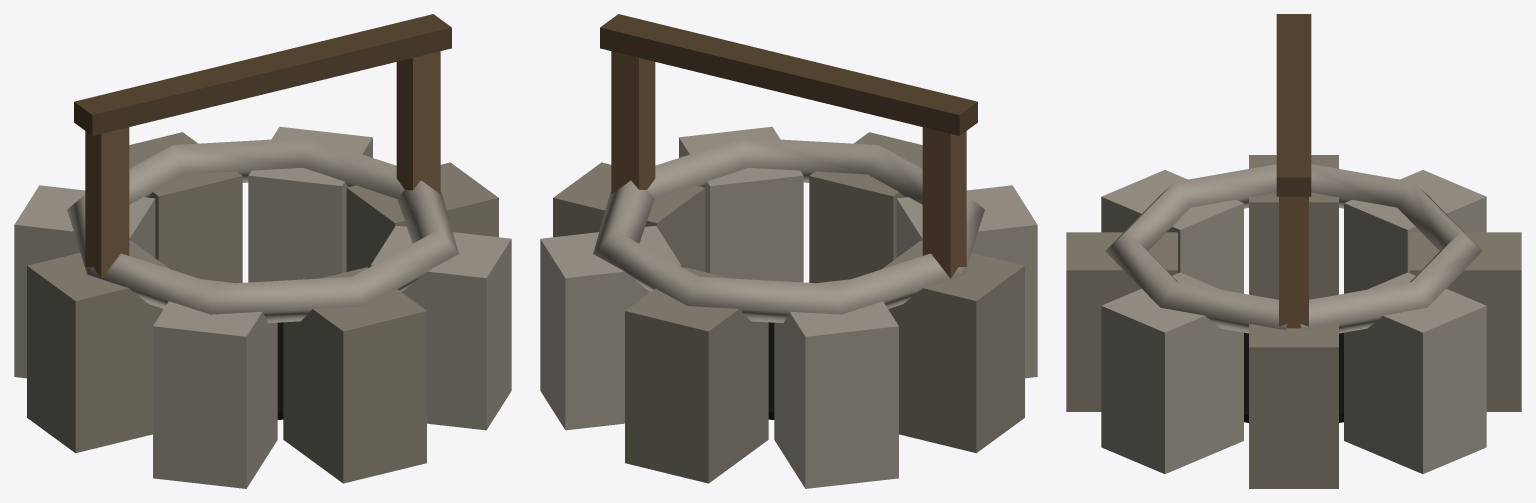
The model's file is land-forest-36.glb.
3 renders of one model, left to right at view 1: azimuth 30°, elevation 25°; view 2: azimuth 150°, elevation 25°; view 3: azimuth 270°, elevation 25°, orthographic. The views are drawn at different scales.
Visible parts, largest first — view 1: land.forest.36; view 2: land.forest.36; view 3: land.forest.36.
Part boxes in pixels (left/top/right/bottom): land.forest.36: left=14, top=14, right=511, bottom=488; land.forest.36: left=540, top=14, right=1037, bottom=488; land.forest.36: left=1066, top=14, right=1521, bottom=488.
Size of the model in its own units: 1.96 by 1.41 by 1.96.
